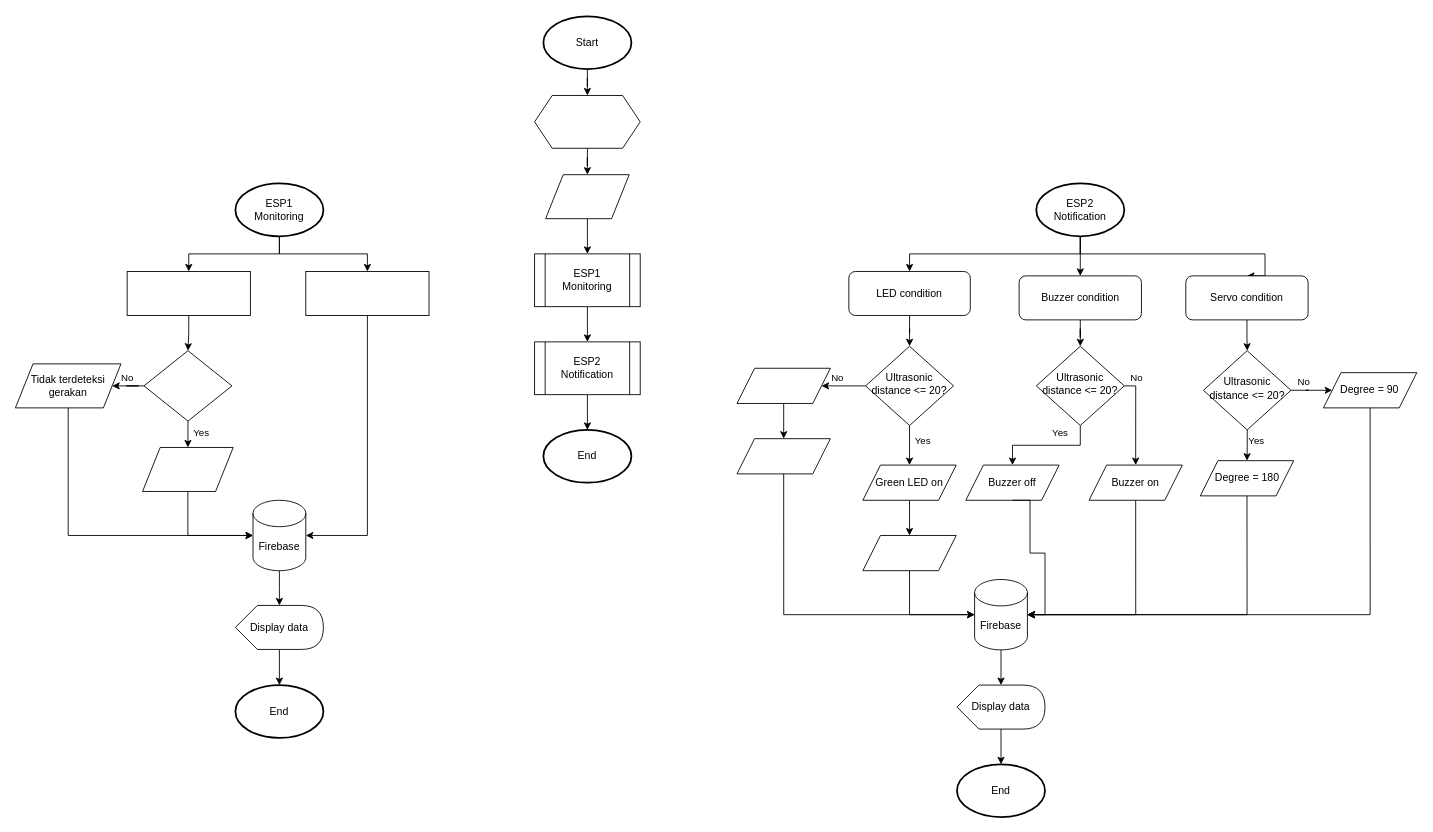
Some shapes in this 1433 by 832 pixel diagram are drawn without their labels. The box of each missing label's shape, as (x1, y1, x2, y2) in pixels:
Green LED off: (736, 438, 830, 474)
Initialization (pinout, wifi, database): (534, 95, 640, 148)
Input from sensors: (545, 174, 629, 219)
Movements detected?: (143, 350, 232, 421)
Read PIR sensor input: (126, 271, 250, 315)
Read ultrasonic sensor input: (305, 271, 429, 315)
Red LED off: (862, 535, 956, 571)
Red LED on: (736, 367, 830, 403)
Terdeteksi gerakan: (142, 447, 233, 491)
